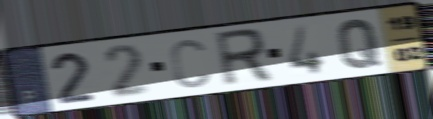2: (45, 48, 102, 108), (100, 42, 153, 100)
4: (285, 21, 329, 77)
C: (167, 37, 212, 91)
Q: (335, 17, 384, 71)
R: (212, 26, 277, 89)
